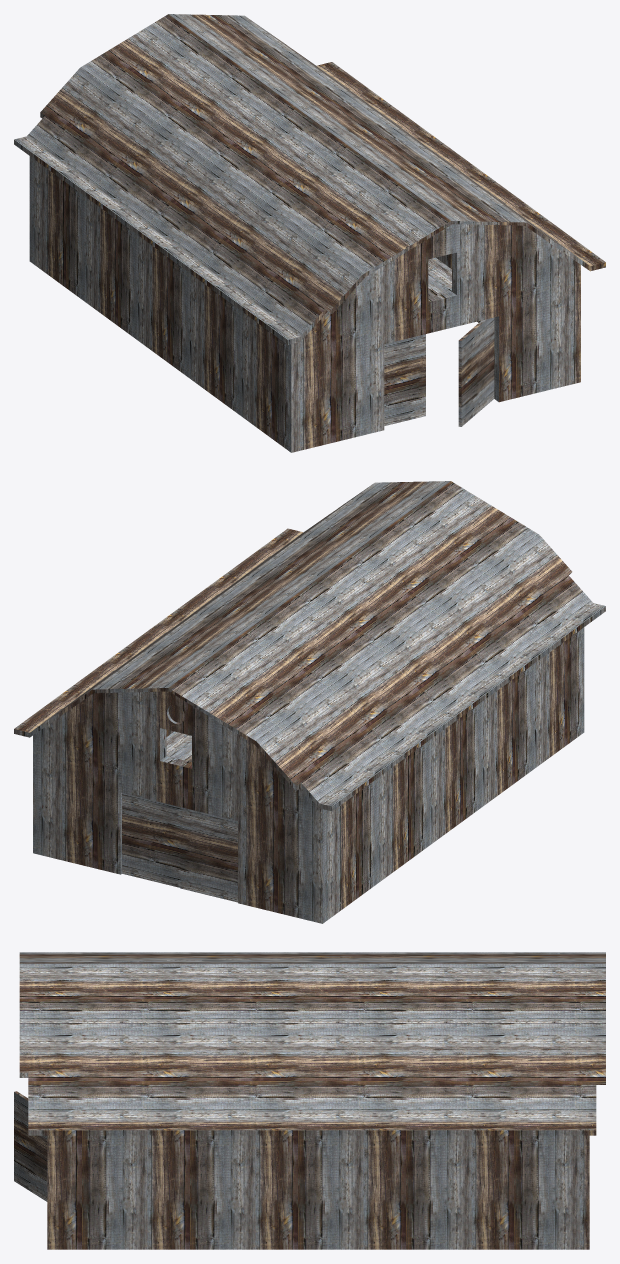
The model's file is OldBarn.fbx.
3 renders of one model, top to bottom at view 1: azimuth 30°, elevation 25°; view 2: azimuth 150°, elevation 25°; view 3: azimuth 270°, elevation 25°, orthographic. The views are drawn at different scales.
Parts seen in each view (by area): view 1: Model; view 2: Model; view 3: Model.
Boxes of the visible parts, x1=… form: Model: x1=14, y1=14, x2=605, y2=452; Model: x1=14, y1=481, x2=605, y2=923; Model: x1=14, y1=952, x2=605, y2=1249.
Size of the model in its own units: 7.05 by 4.36 by 10.96.
